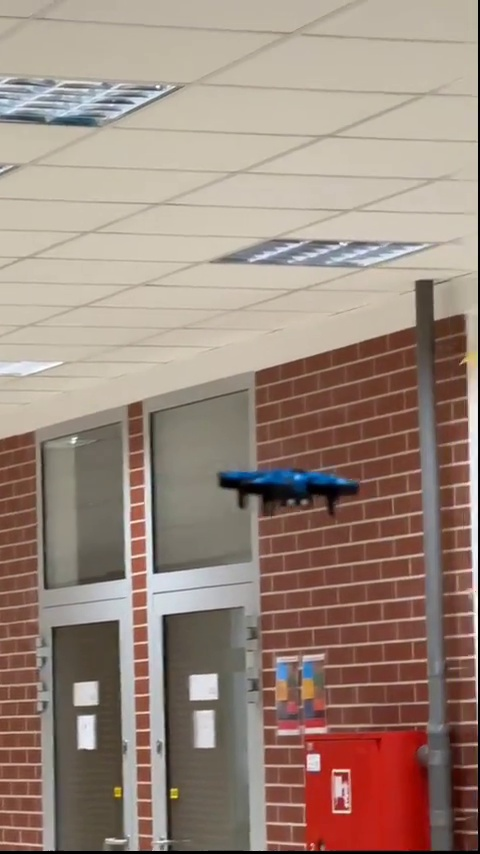drone: (214, 462, 352, 517)
